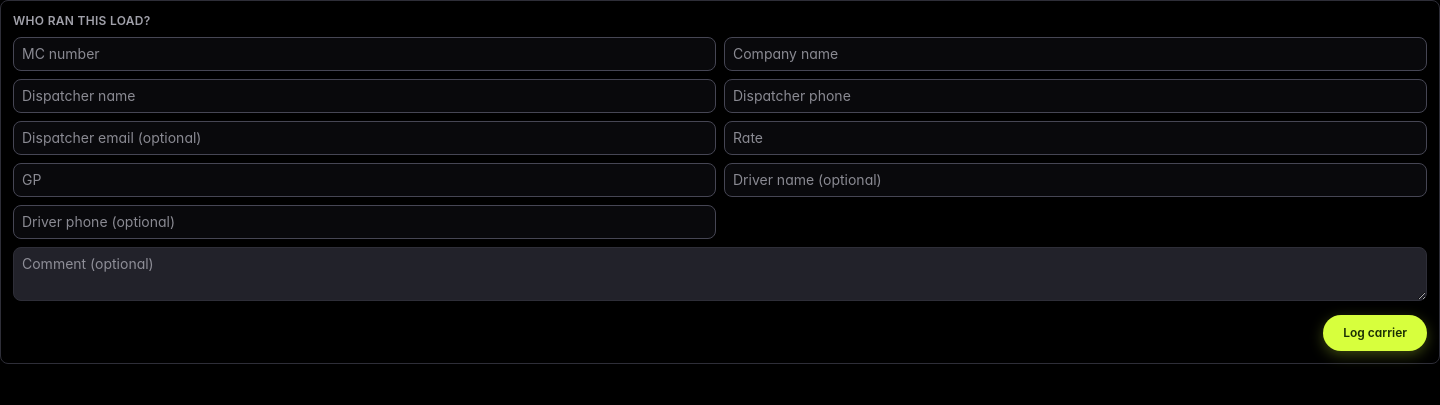
Test: BookingCarrierFields › tabbing out of an unknown MC number leaves the form blank for a new carrier
Type "999999" into the field named "carrier mc number" at (364, 54), box 13,37 -> 716,71
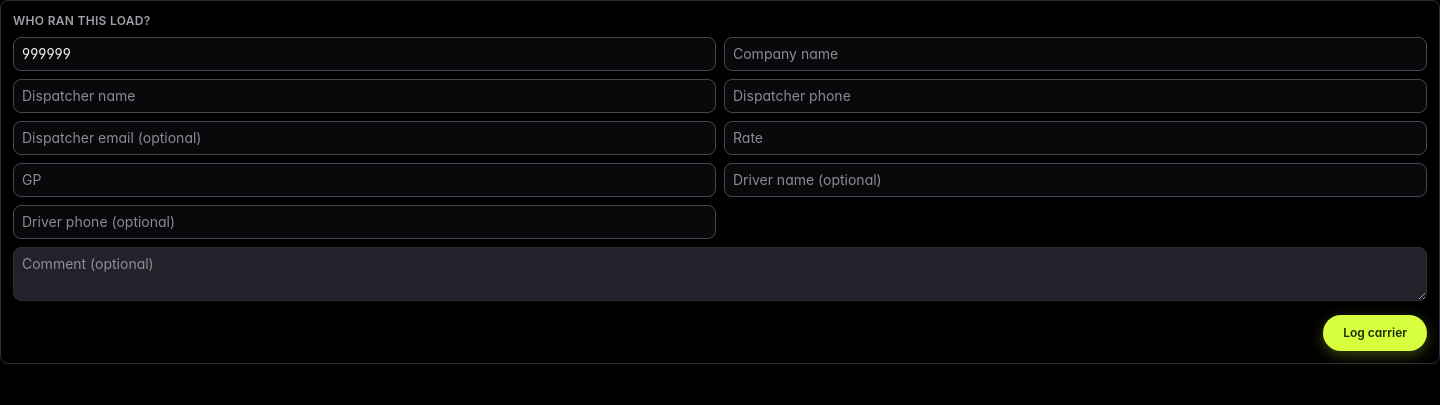
Leave the field named "carrier mc number", box 13,37 -> 716,71
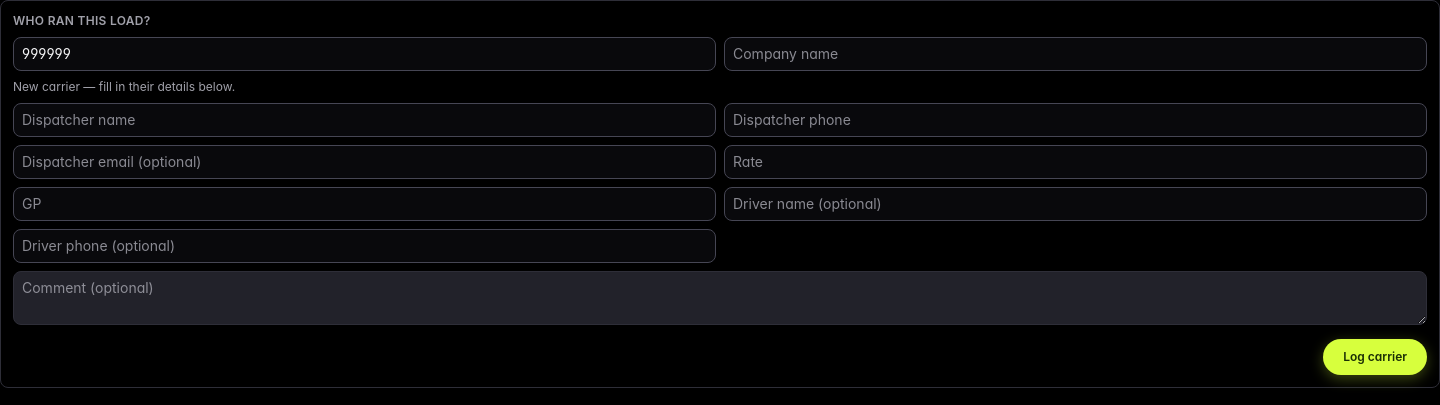
Check: the field named "carrier company name" is empty, box 724,37 -> 1427,71
Check: the text "New carrier — fill in their details below." is shown, box 13,79 -> 235,94
